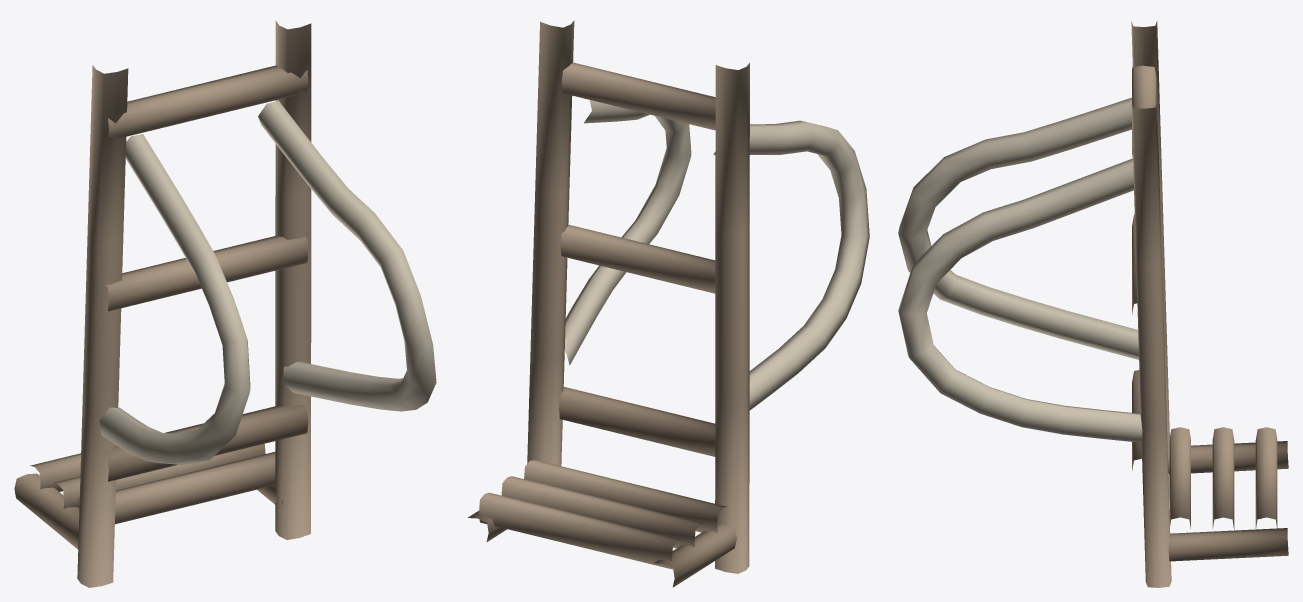
Rendered from shoiko.glb.
The picture shows the model from 3 angles, left to right: view 1: azimuth 30°, elevation 25°; view 2: azimuth 150°, elevation 25°; view 3: azimuth 270°, elevation 25°; orthographic projection. The views are drawn at different scales.
Parts seen in each view (by area): view 1: Shoiko; view 2: Shoiko; view 3: Shoiko.
Part boxes in pixels (x1=…): Shoiko: x1=14, y1=20, x2=436, y2=587; Shoiko: x1=468, y1=20, x2=869, y2=587; Shoiko: x1=898, y1=21, x2=1288, y2=587.
Bounding box in the file's own units: 0.3628 × 0.7314 × 0.5431.
